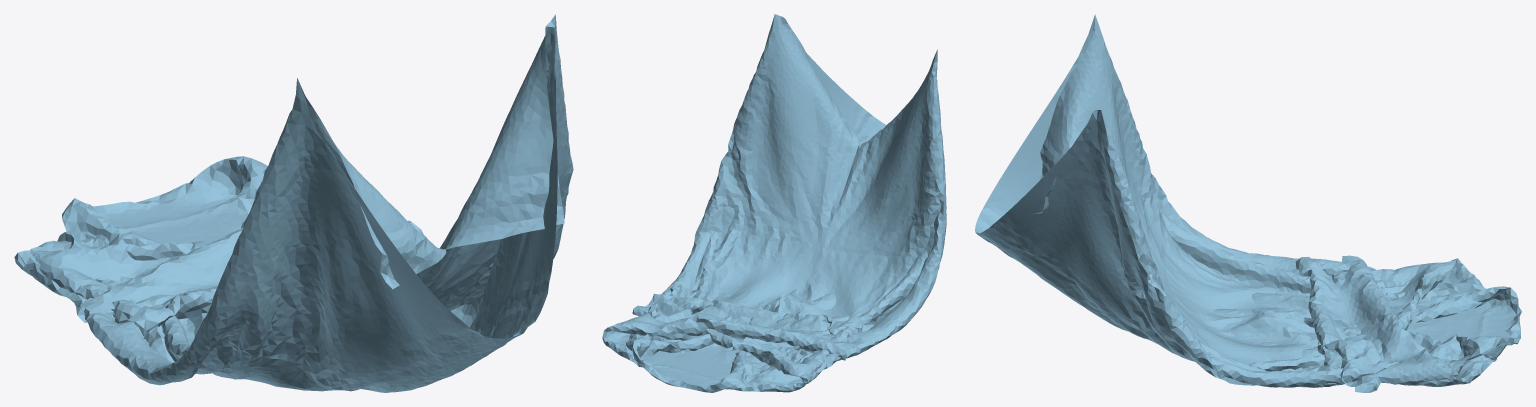
Rendered from frame_07.glb.
The picture shows the model from 3 angles, left to right: view 1: azimuth 30°, elevation 25°; view 2: azimuth 150°, elevation 25°; view 3: azimuth 270°, elevation 25°; orthographic projection. The views are drawn at different scales.
Parts seen in each view (by area): view 1: frame_07.obj; view 2: frame_07.obj; view 3: frame_07.obj.
Part boxes in pixels (left/top/right/bottom): frame_07.obj: left=14, top=14, right=573, bottom=392; frame_07.obj: left=602, top=14, right=946, bottom=392; frame_07.obj: left=975, top=14, right=1521, bottom=392.
Size of the model in its own units: 0.9204 by 0.8777 by 1.6.
